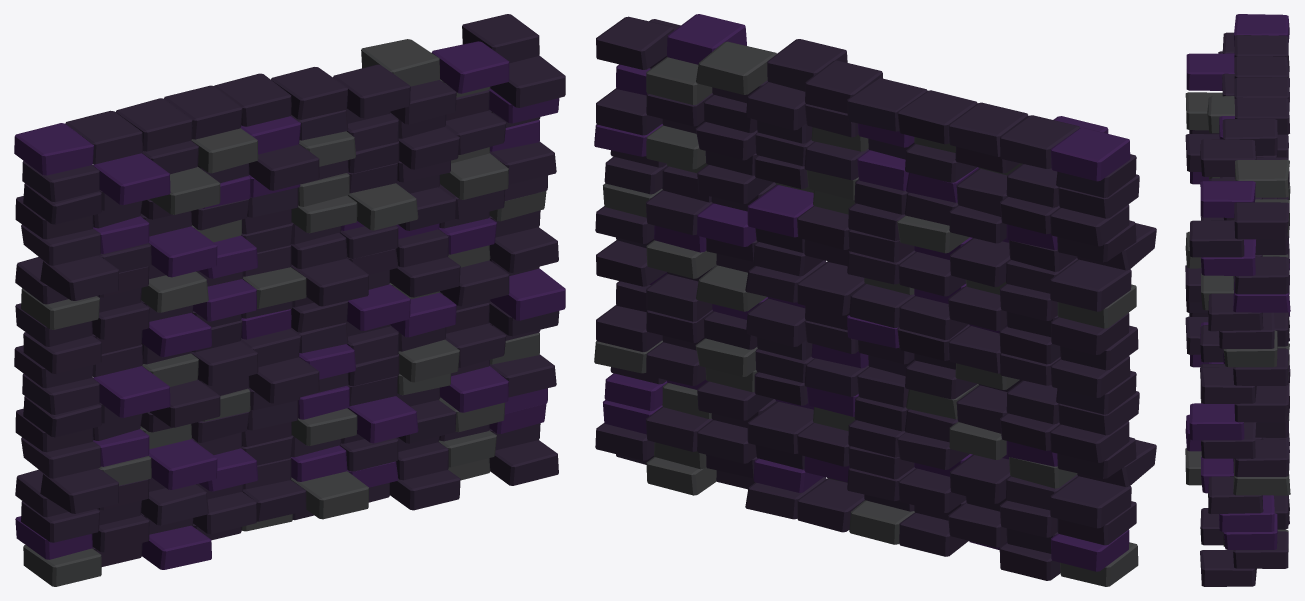
File: ParedeQuebrávelVermelha.fbx
3 views of the same model, side by side, from view 1: azimuth 30°, elevation 25°; view 2: azimuth 150°, elevation 25°; view 3: azimuth 270°, elevation 25° (orthographic). The views are drawn at different scales.
Parts seen in each view (by area): view 1: ParedeTijolos; view 2: ParedeTijolos; view 3: ParedeTijolos.
Part boxes in pixels (box(x1,y1,x2,y2)): ParedeTijolos: box(14, 14, 565, 586); ParedeTijolos: box(594, 14, 1156, 586); ParedeTijolos: box(1185, 14, 1290, 586).
Bounding box in the file's own units: 264 × 216 × 56.15.
